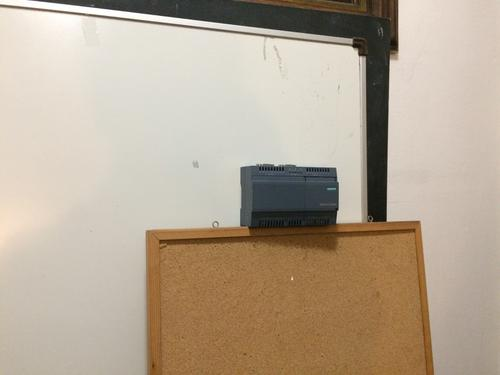iot2000: (236, 161, 340, 228)
